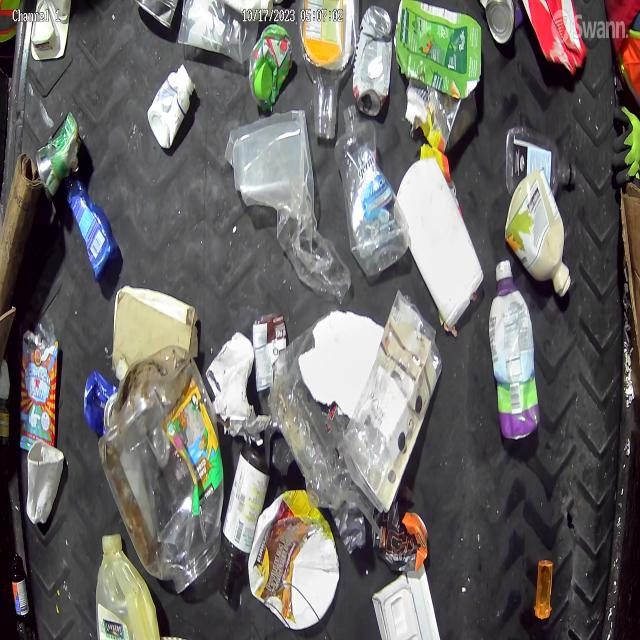can: (404, 82, 477, 151), (352, 4, 394, 118), (372, 498, 429, 574), (35, 112, 81, 199), (253, 307, 289, 392), (482, 0, 516, 44), (135, 1, 179, 31)
non_white_jug: (248, 487, 340, 629), (394, 1, 482, 99), (98, 534, 162, 639)
plastic_bottle: (338, 102, 410, 278)
